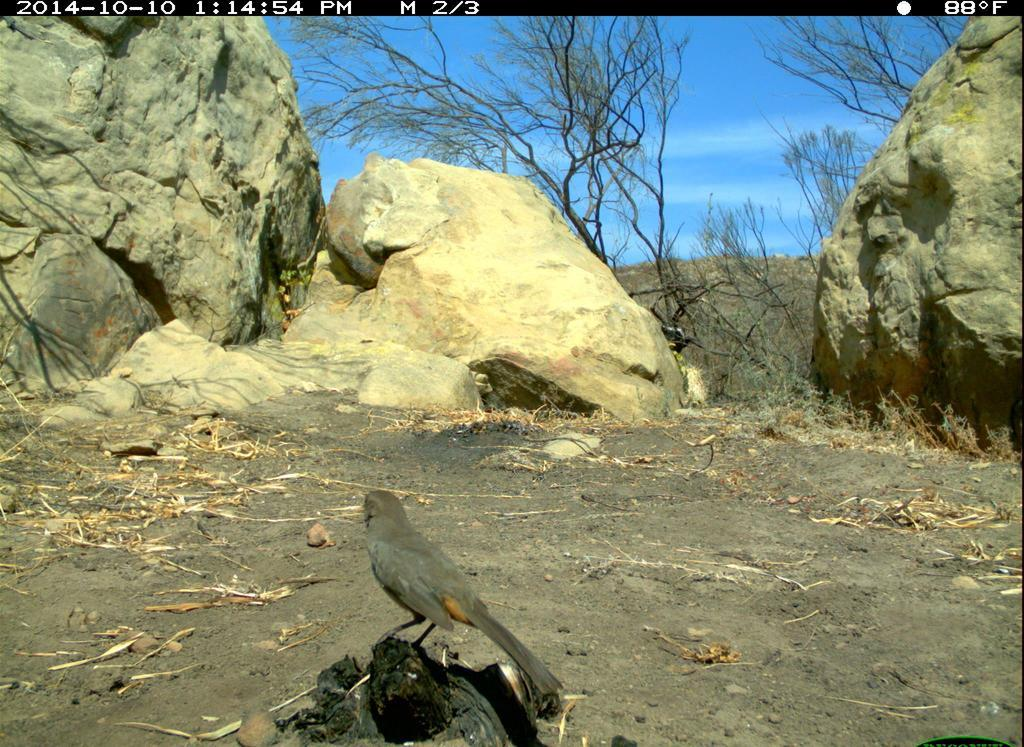bird: (344, 477, 570, 710)
